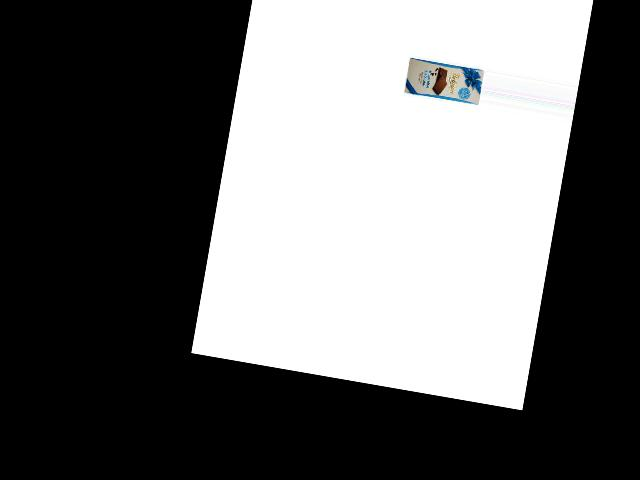chocolate: (401, 52, 486, 108)
